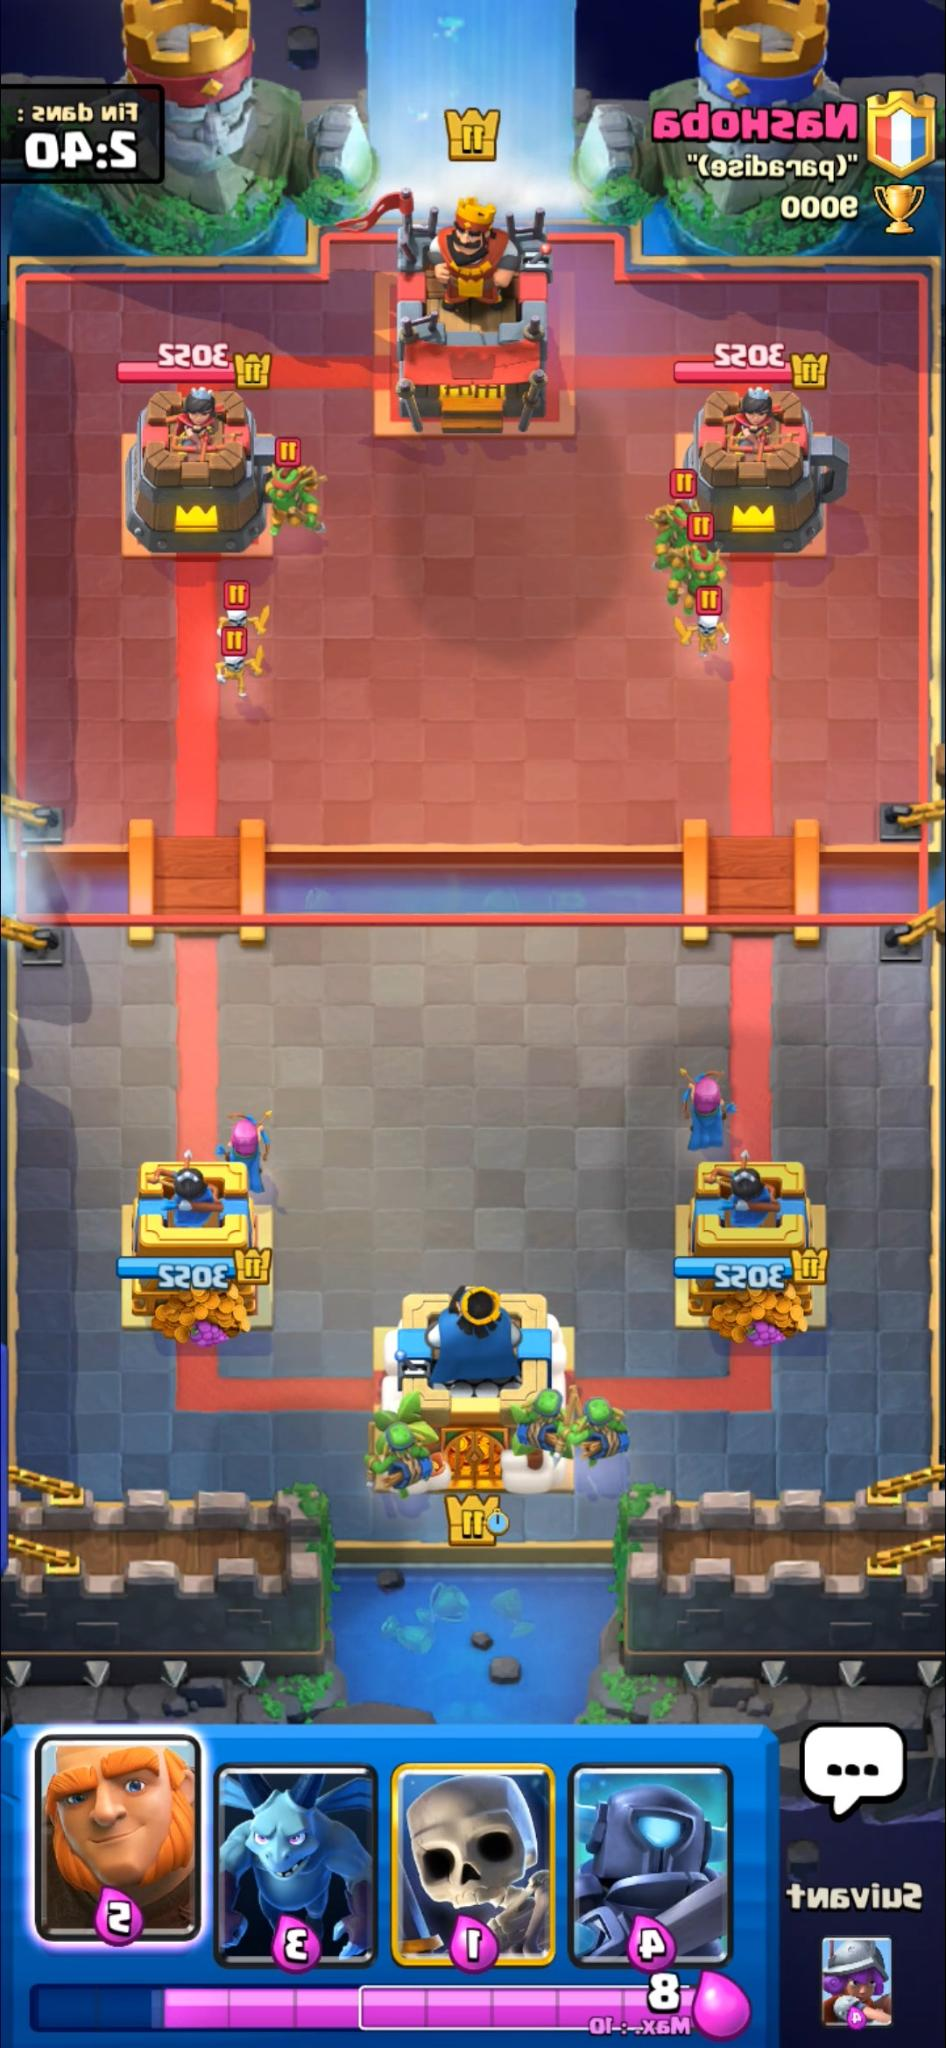gobelin_lances: (268, 468, 319, 536)
squelette: (176, 593, 270, 692), (681, 1068, 737, 1153)
